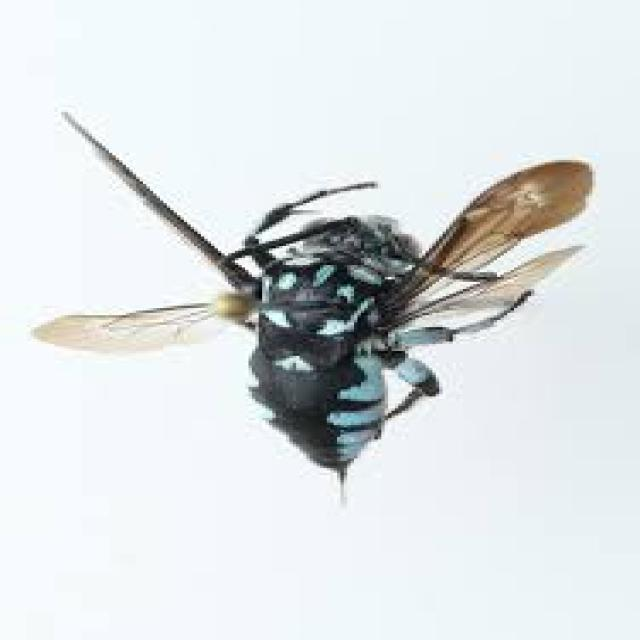Thyreus: (47, 106, 605, 512)
